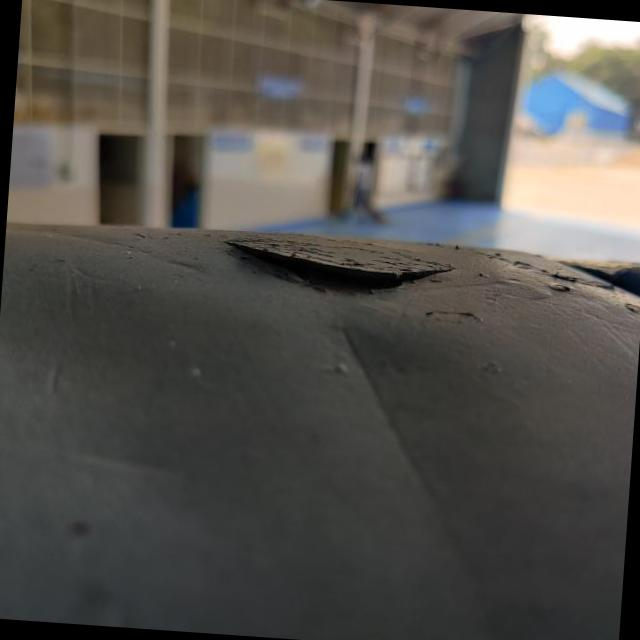Crack: (216, 232, 455, 292)
